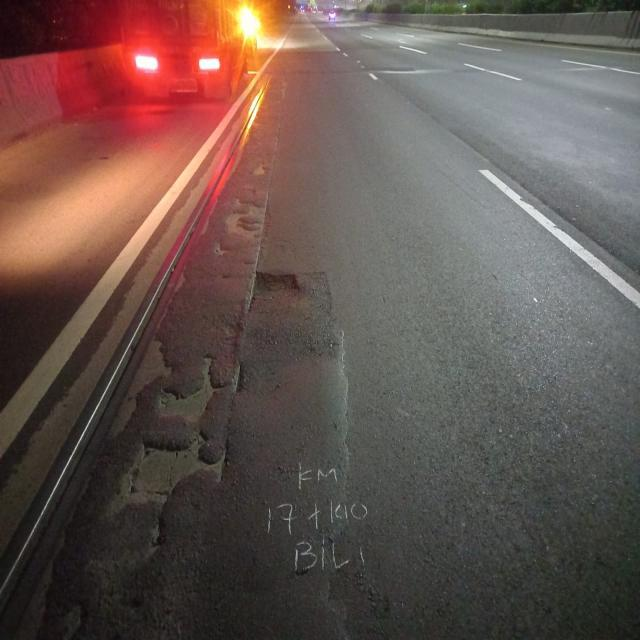Buraco: (92, 429, 233, 531), (101, 332, 177, 443), (151, 352, 229, 429), (221, 194, 274, 250), (50, 597, 92, 640), (138, 514, 170, 563), (250, 269, 302, 298), (226, 358, 248, 397), (215, 317, 248, 341), (209, 237, 234, 260), (246, 159, 273, 178)
